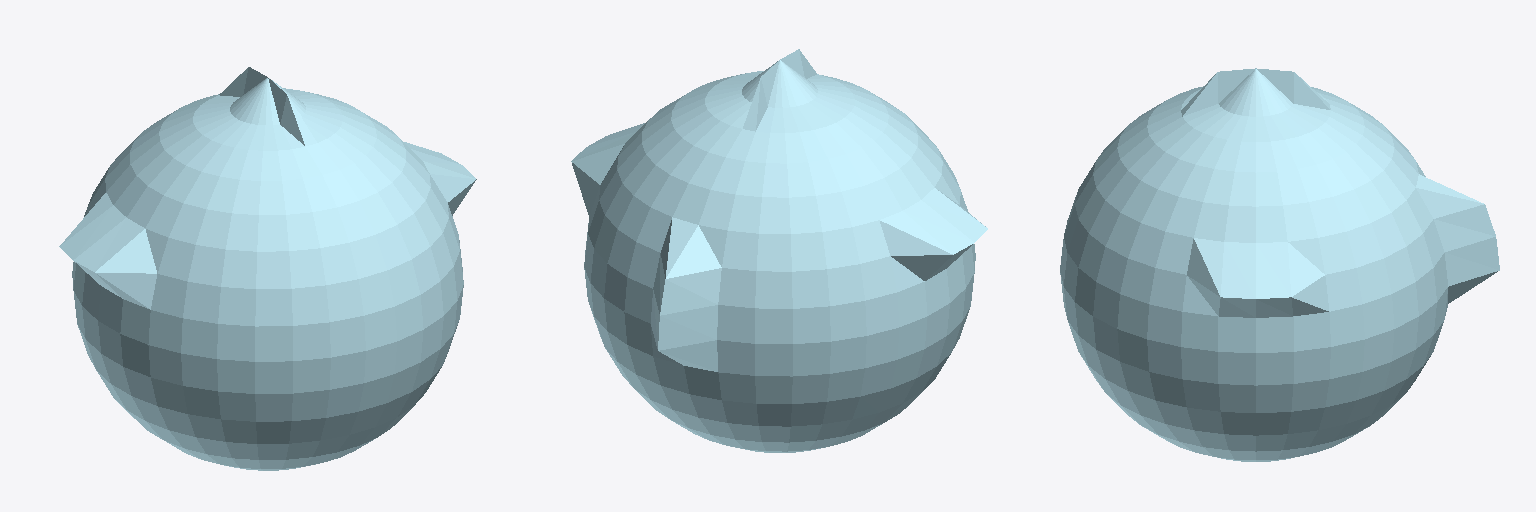
The picture shows the model from 3 angles: view 1: azimuth 30°, elevation 25°; view 2: azimuth 150°, elevation 25°; view 3: azimuth 270°, elevation 25°; orthographic projection.
Visible parts, largest first — view 1: 球.003; view 2: 球.003; view 3: 球.003.
Boxes of the visible parts, box(x1,y1,x2,y2) form: 球.003: box(59, 67, 476, 470); 球.003: box(571, 49, 987, 452); 球.003: box(1060, 68, 1499, 461).
Bounding box in the file's own units: 1.14 × 1.05 × 1.12.
Materials: 1 (1 with a texture image).